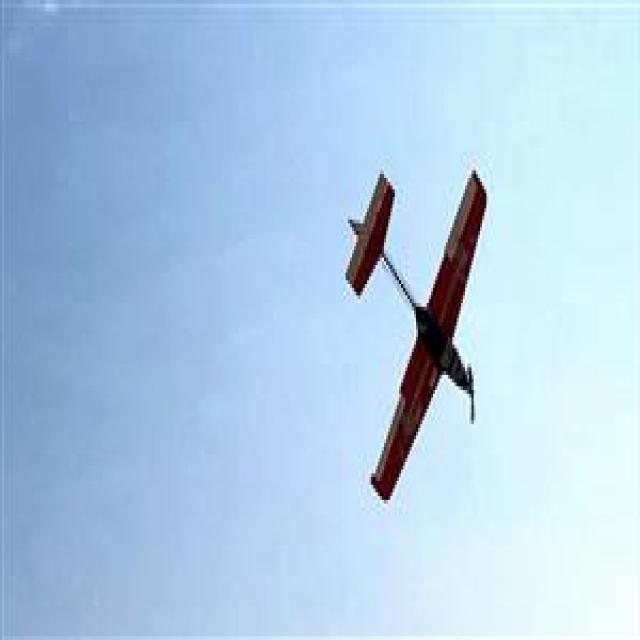UAV: (308, 184, 582, 476)
